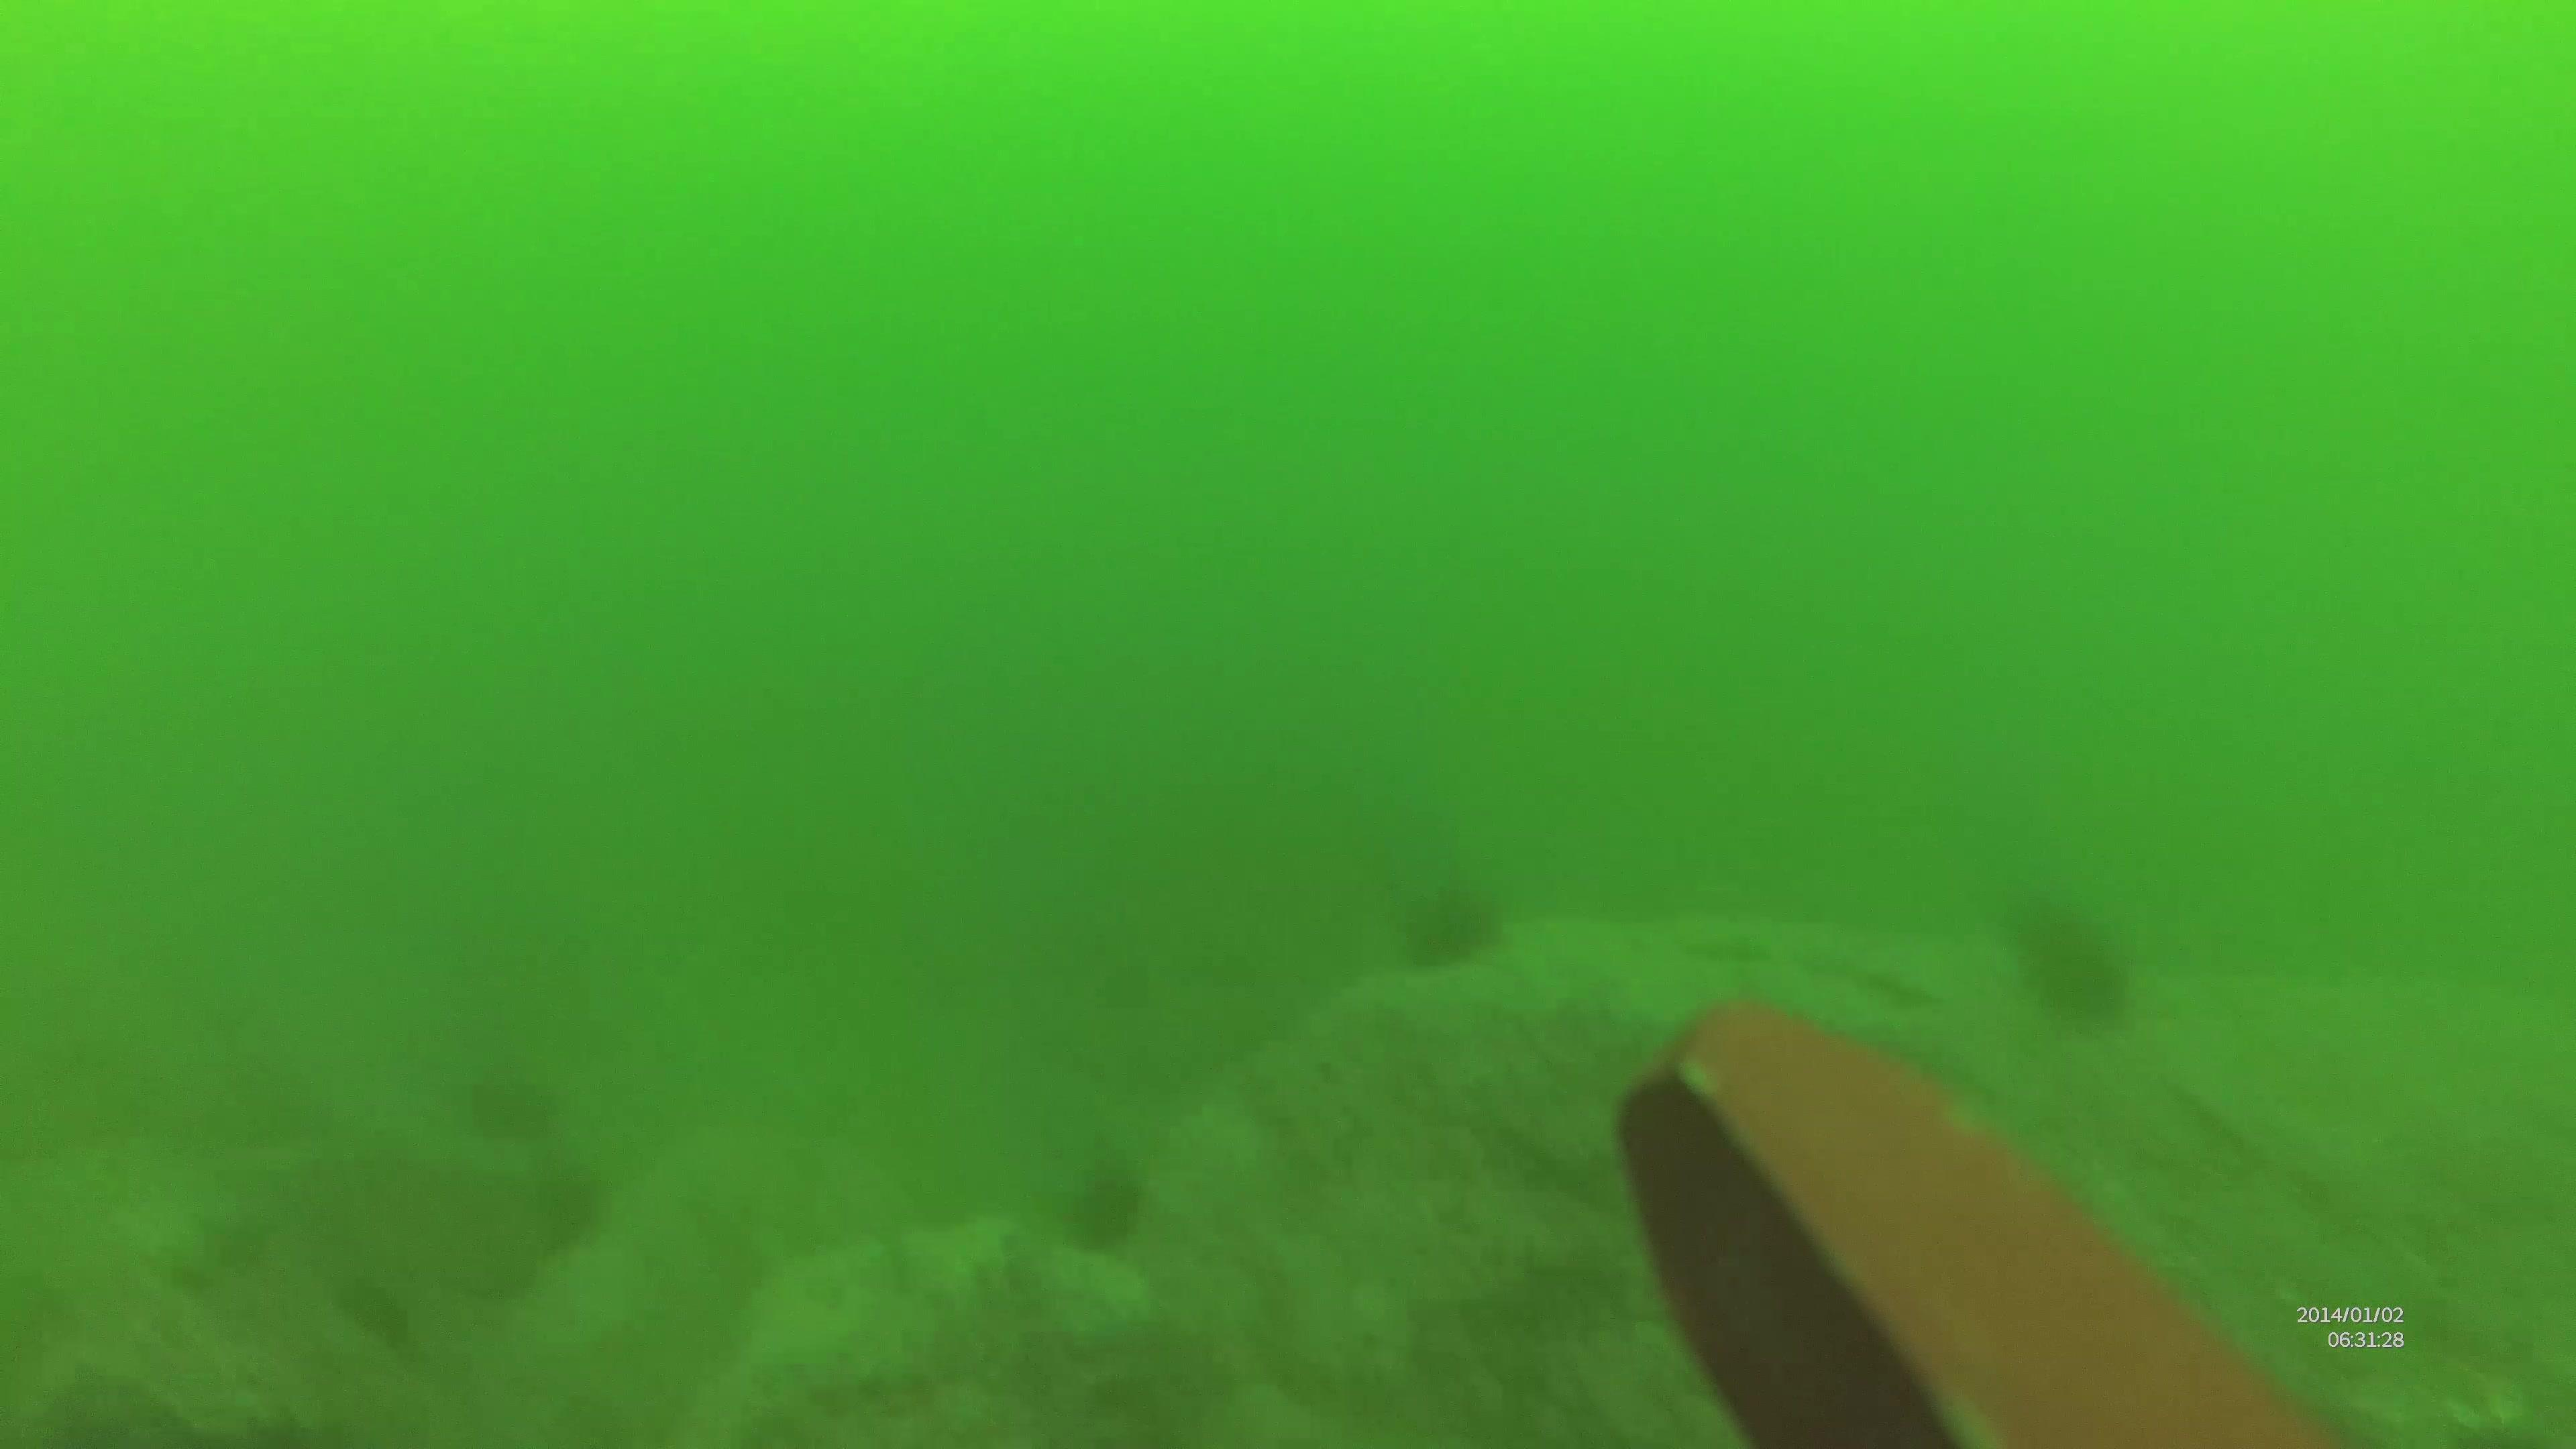echinus: (2017, 897, 2137, 1037), (1398, 878, 1500, 980), (1056, 1155, 1148, 1254)
